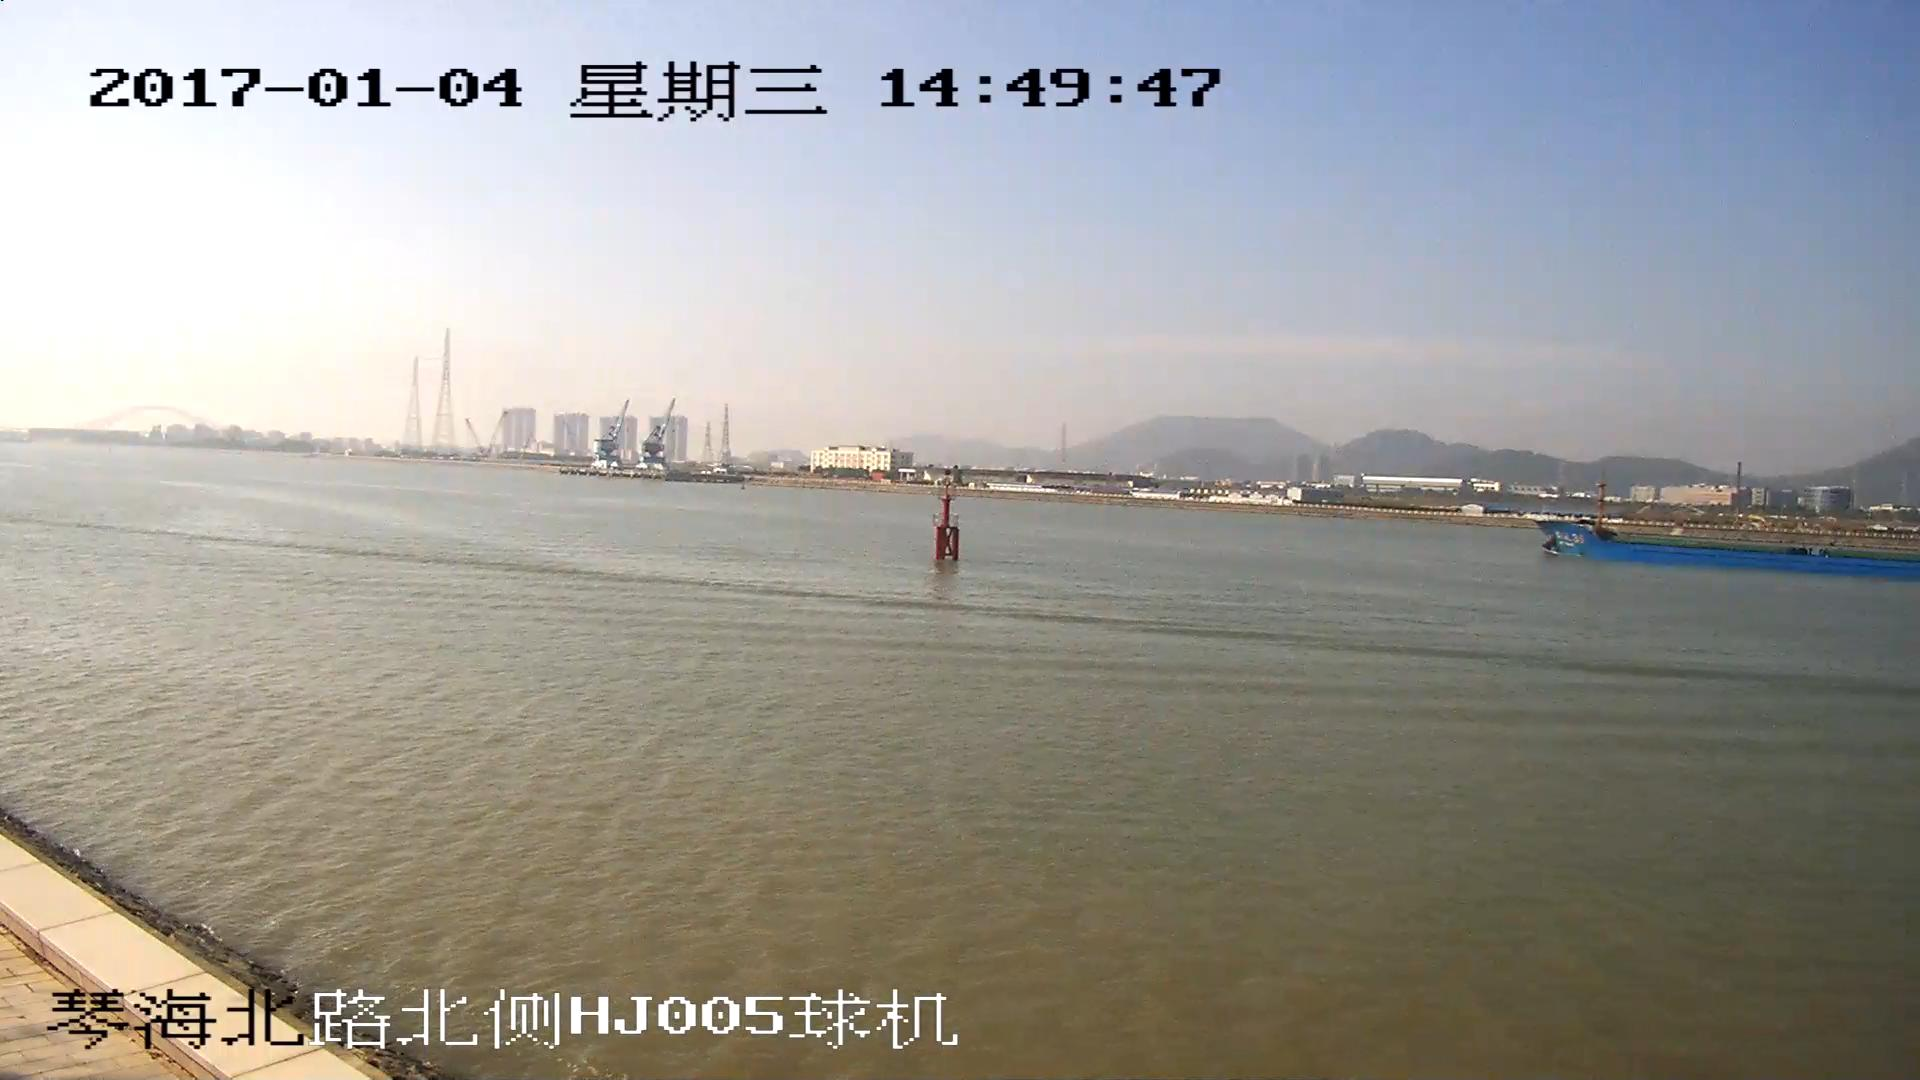general cargo ship: (1544, 481, 1920, 582)
